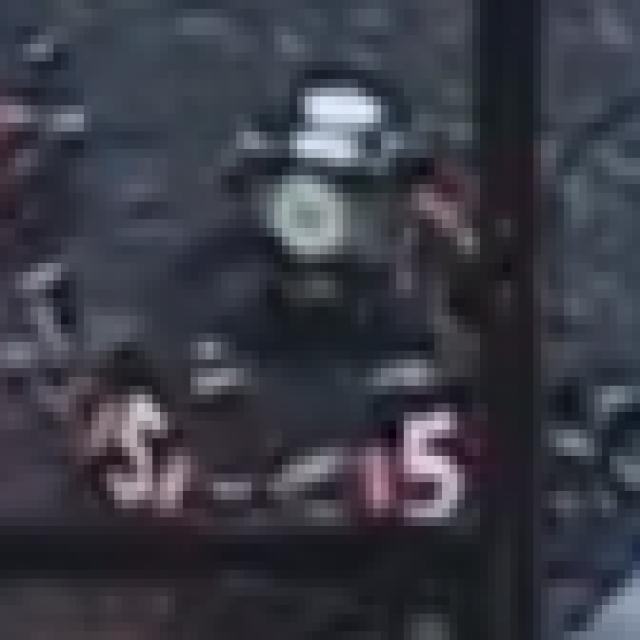R5: (84, 377, 190, 535), (366, 403, 488, 526)
